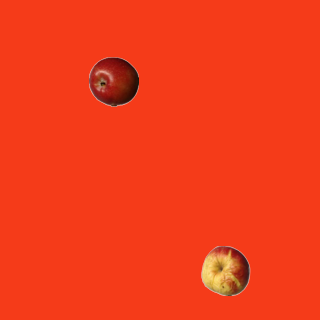Apple Braeburn: (88, 56, 138, 106)
Apple Red Yellow 1: (200, 245, 250, 295)
